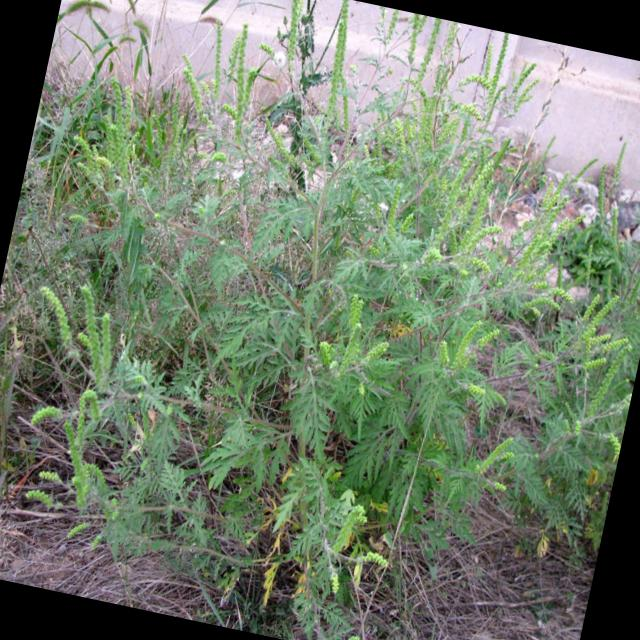ambrosia: (0, 249, 160, 544), (252, 447, 404, 621), (267, 260, 403, 420), (49, 61, 178, 206), (410, 126, 524, 286), (185, 0, 293, 158), (420, 282, 514, 417), (464, 28, 558, 142), (296, 0, 381, 124), (562, 267, 636, 381), (456, 423, 524, 507)
